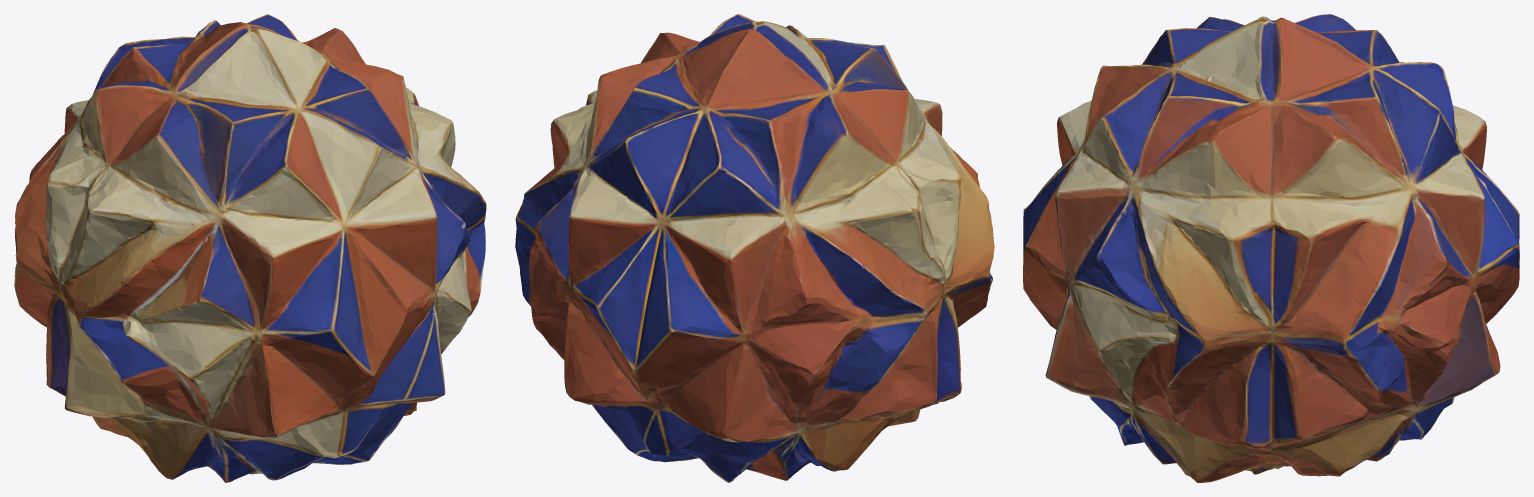
File: vessel-09.glb
3 renders of one model, left to right at view 1: azimuth 30°, elevation 25°; view 2: azimuth 150°, elevation 25°; view 3: azimuth 270°, elevation 25°, orthographic. The views are drawn at different scales.
Parts seen in each view (by area): view 1: tmpde8t_qdm.ply; view 2: tmpde8t_qdm.ply; view 3: tmpde8t_qdm.ply.
Part boxes in pixels (left/top/right/bottom): tmpde8t_qdm.ply: left=14, top=14, right=486, bottom=482; tmpde8t_qdm.ply: left=515, top=14, right=994, bottom=482; tmpde8t_qdm.ply: left=1023, top=14, right=1519, bottom=482.
Size of the model in its own units: 1.93 by 1.99 by 1.99.
1 material, 1 textured.
